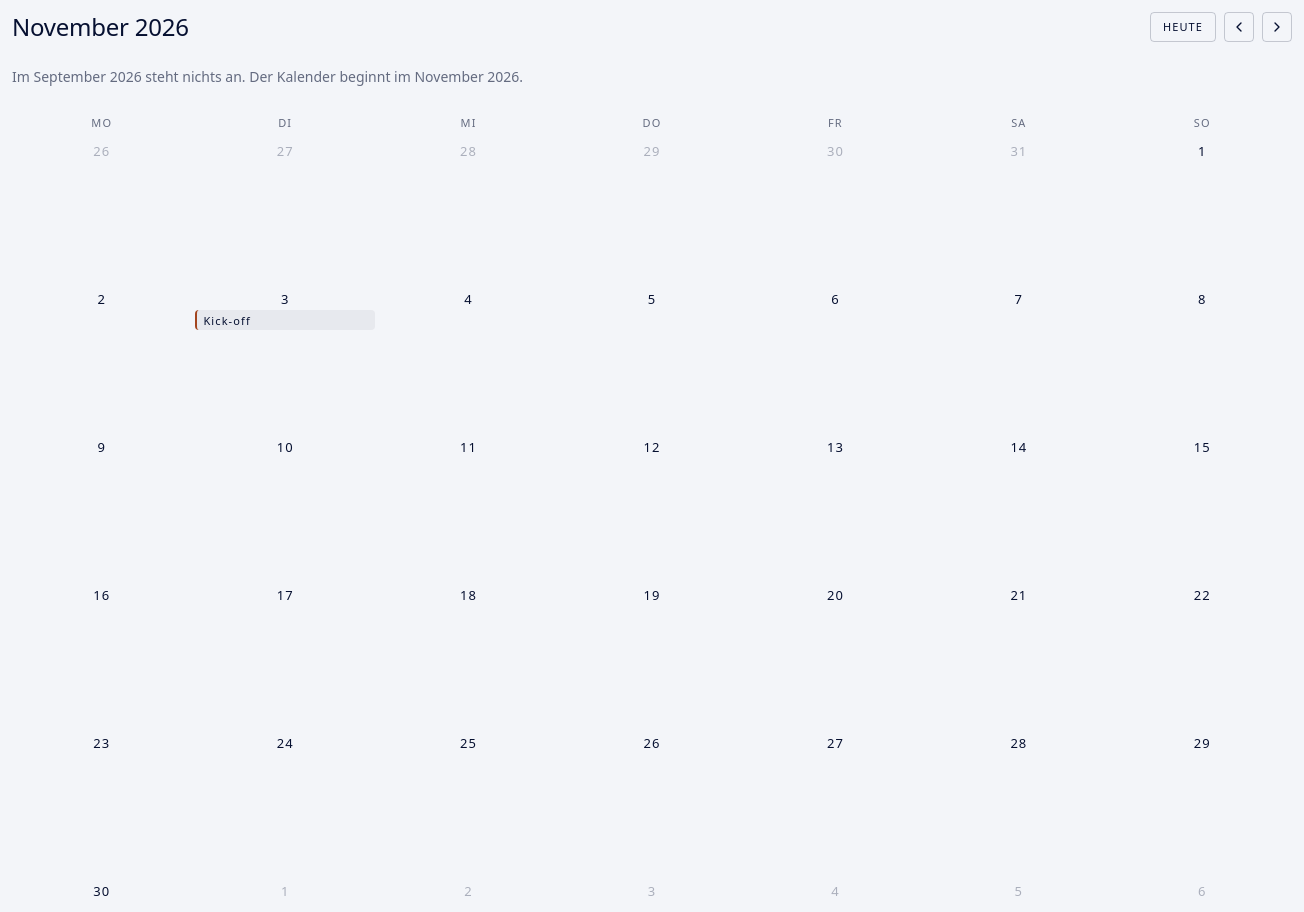
Test: EventCalendarGrid › drops the jumped-month note once the user navigates on their own
The image size is (1304, 912).
Click the button named "Vorheriger Monat": [1239, 27] box [1224, 12, 1254, 42]
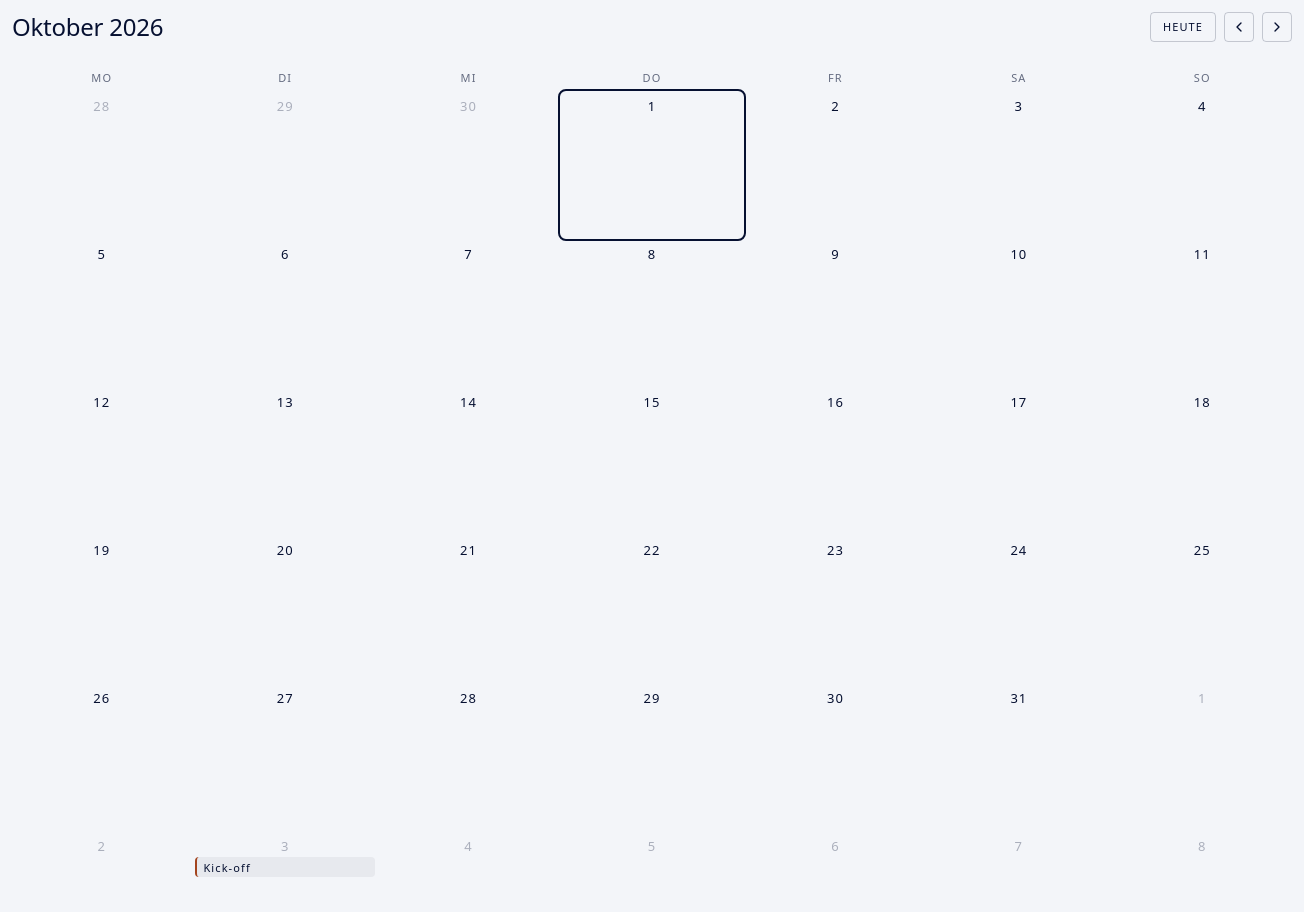
Expected: the text "Im September 2026 steht nichts an. Der Kalender beginnt im November 2026." is gone
